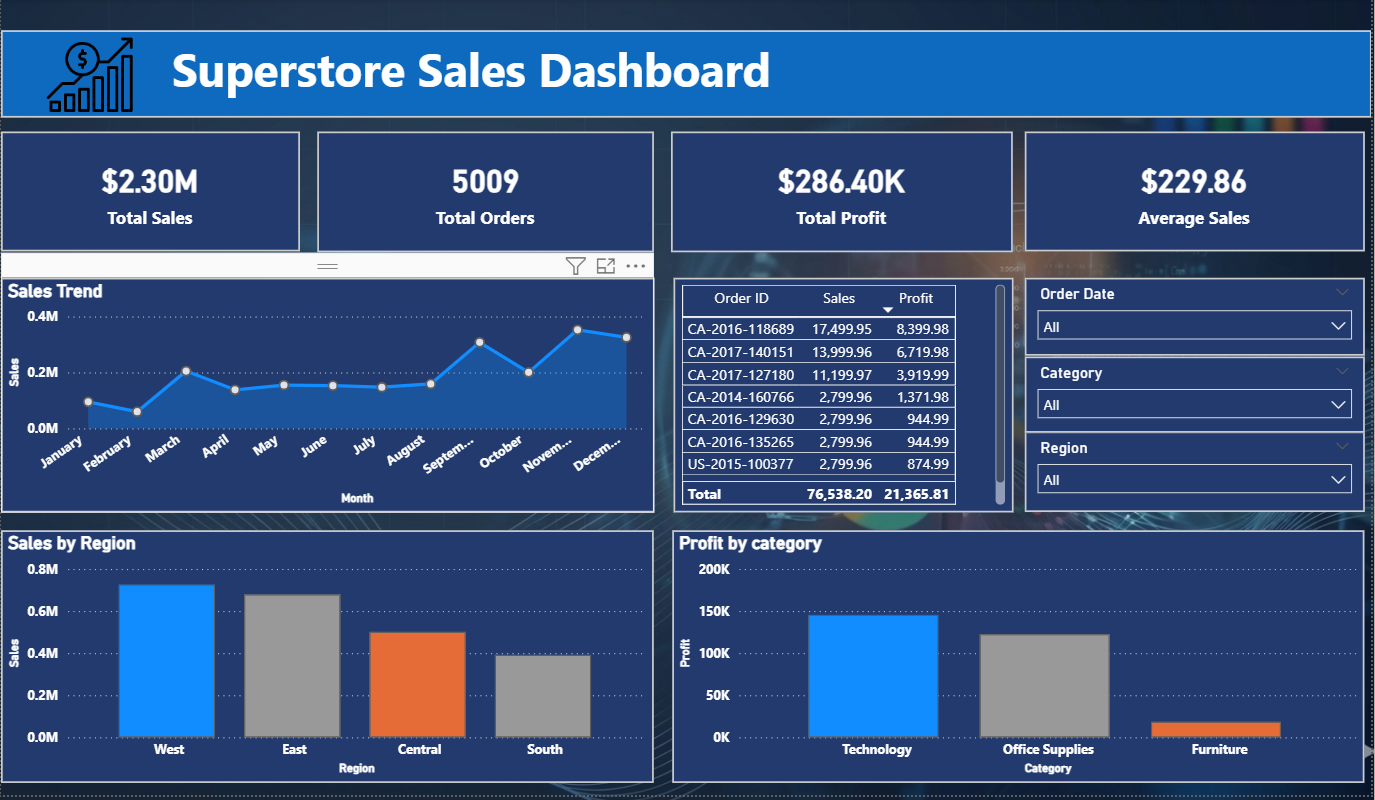

What the dashboard file says about the page in this screenshot:
{"tool":"powerbi","page":{"name":"Page 1","canvas":[1280,720],"ordinal":0},"visuals":[{"type":"card","fields":{"Values":["Sample - Superstore.Total Sales"]},"box":[0,100.9,279.1,111.8],"z":0},{"type":"card","fields":{"Values":["Sample - Superstore.Total Profit"]},"box":[625.5,100.9,319.1,112.7],"z":1000},{"type":"card","fields":{"Values":["Sample - Superstore.Total Orders"]},"box":[295.5,100,314.5,112.7],"z":2000},{"type":"card","fields":{"Values":["Sample - Superstore.Average Sales"]},"box":[955.5,100.9,317.3,111.8],"z":3000},{"type":"lineChart","title":"Sales Trend","fields":{"Category":["Sample - Superstore.Order Date.Variation.Date Hierarchy.Month"],"Y":["Sum(Sample - Superstore.Sales)"]},"box":[0,237.3,610,219.1],"z":4000},{"type":"clusteredColumnChart","title":"Sales by Region","fields":{"Category":["Sample - Superstore.Region"],"Y":["Sum(Sample - Superstore.Sales)"]},"box":[0,472.8,609.3,235.8],"z":5000},{"type":"tableEx","title":"Profit by category","fields":{"Values":["Sample - Superstore.Order ID","Sum(Sample - Superstore.Sales)","Sum(Sample - Superstore.Profit)"]},"box":[628.2,237.3,317.3,219.1],"z":6000},{"type":"slicer","title":"Profit by category","fields":{"Values":["Sample - Superstore.Region"]},"box":[955.5,380.9,317.3,75.5],"z":7000},{"type":"slicer","title":"Profit by category","fields":{"Values":["Sample - Superstore.Order Date"]},"box":[955.5,237.3,317.3,72.7],"z":8000},{"type":"slicer","title":"Profit by category","fields":{"Values":["Sample - Superstore.Category"]},"box":[955.5,310,317.3,70.9],"z":9000},{"type":"textbox","box":[0,6.4,1280,81.8],"z":10000},{"type":"image","box":[0,4.5,165.5,85.5],"z":11000},{"type":"clusteredColumnChart","title":"Profit by category","fields":{"Category":["Sample - Superstore.Category"],"Y":["Sum(Sample - Superstore.Profit)"]},"box":[626.9,472.8,646.7,235.8],"z":12000}]}

Visuals, with their boxes in screenshot pixels (x1, y1, x2, y2):
card - Sample - Superstore.Total Sales: 7, 128, 303, 247
card - Sample - Superstore.Total Profit: 670, 128, 1008, 248
card - Sample - Superstore.Total Orders: 320, 127, 653, 247
card - Sample - Superstore.Average Sales: 1019, 128, 1356, 247
"Sales Trend" lineChart: 7, 273, 653, 505
"Sales by Region" clusteredColumnChart: 7, 522, 653, 772
"Profit by category" tableEx: 673, 273, 1009, 505
"Profit by category" slicer: 1019, 425, 1356, 505
"Profit by category" slicer: 1019, 273, 1356, 350
"Profit by category" slicer: 1019, 350, 1356, 425
textbox: 7, 28, 1363, 115
image: 7, 26, 182, 117
"Profit by category" clusteredColumnChart: 671, 522, 1356, 772
